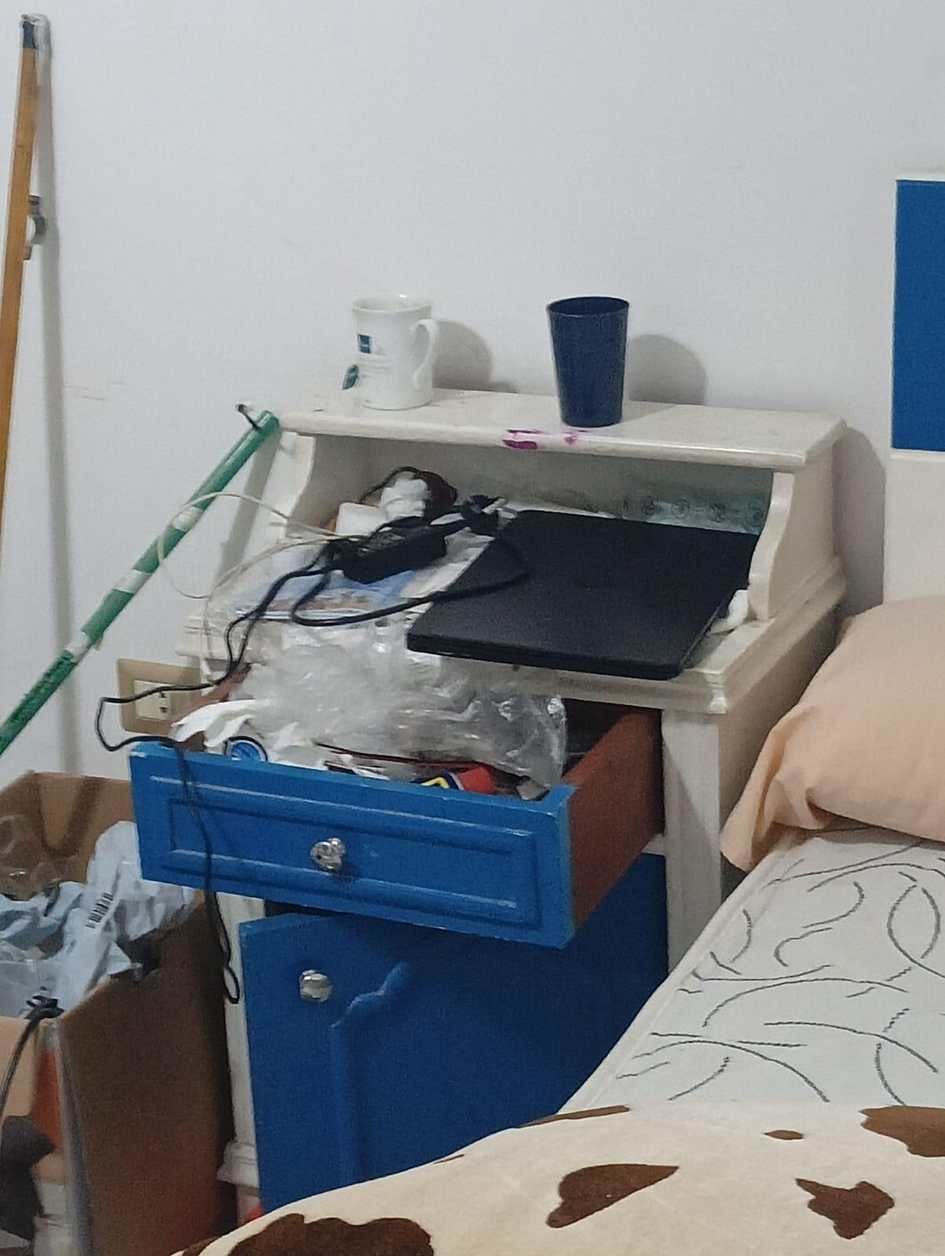cup: (547, 297, 628, 427), (352, 295, 439, 410)
